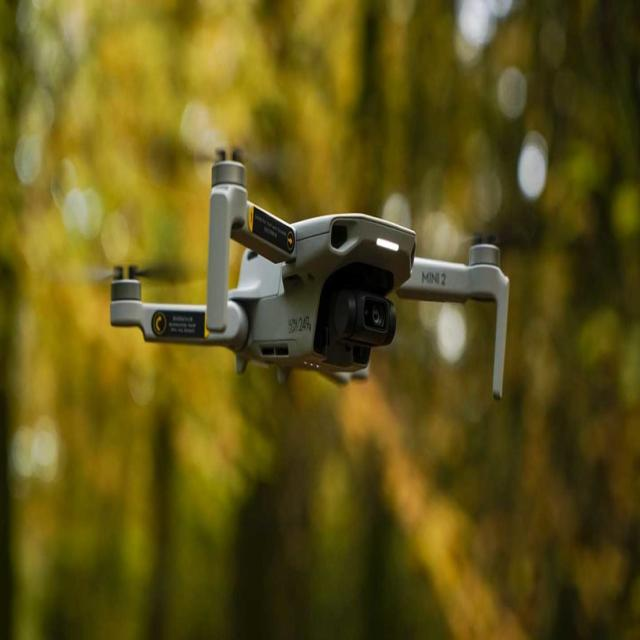drone: (77, 98, 545, 454)
